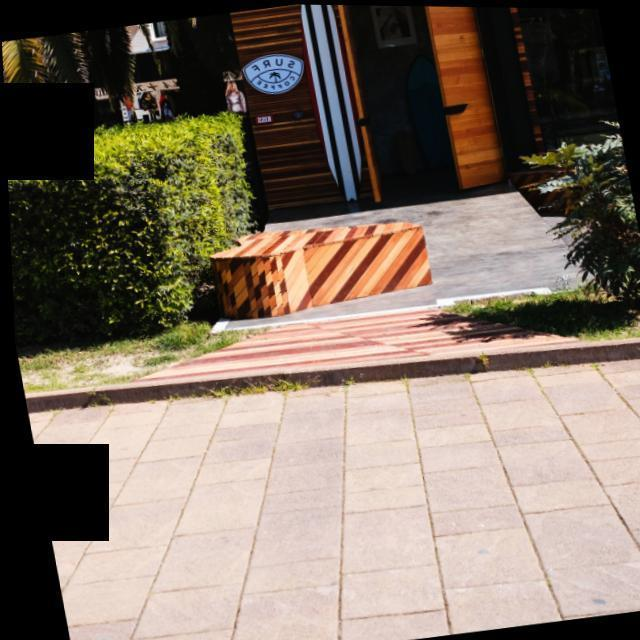tree: (3, 109, 284, 357), (520, 120, 640, 304)
